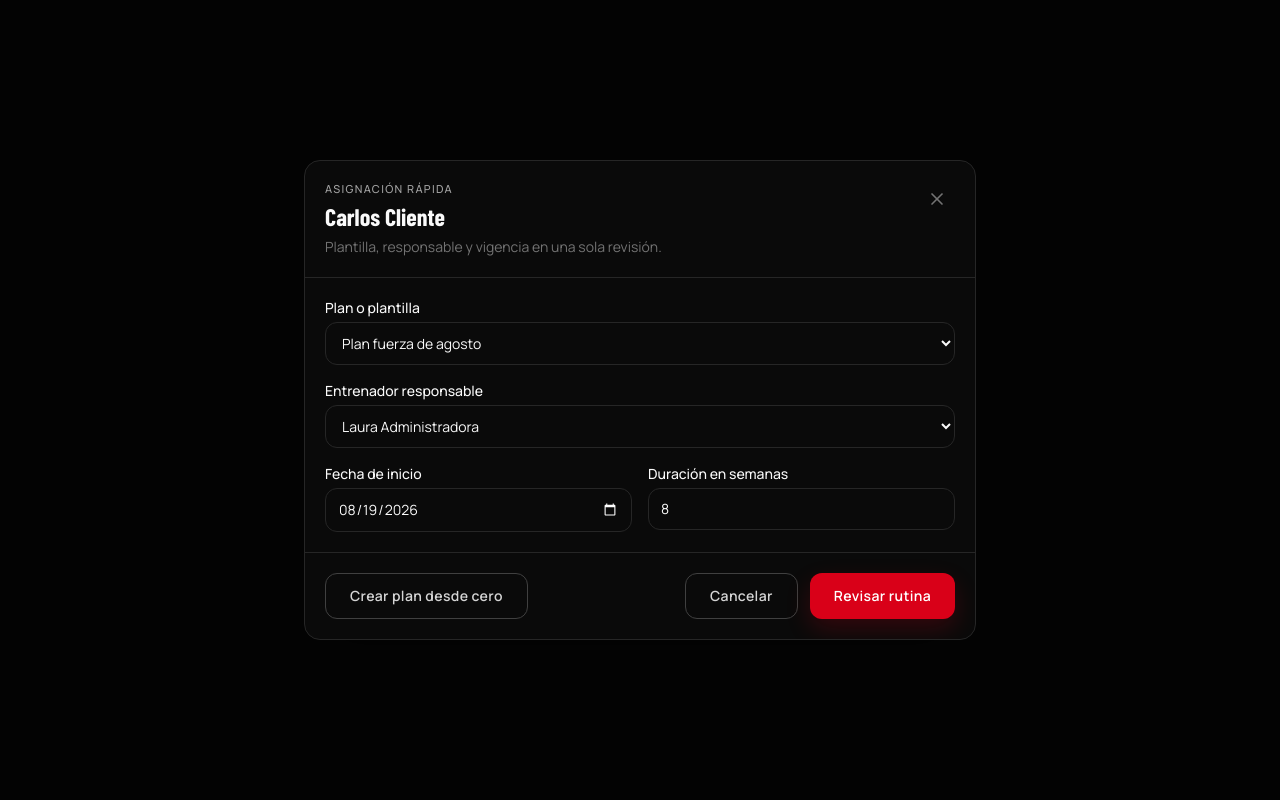
Scenario: QuickRoutineAssignmentModal › allows selecting and publishing a client draft without replacing its content
This screenshot has width=1280, height=800.
Later steps or results of the test are not shown.
Check: the dropdown with test id "quick-routine-template" shows "Plan fuerza de agosto", box x1=325 y1=322 x2=955 y2=365
Click the button "Revisar rutina". click: (882, 596)
box: x1=810 y1=573 x2=955 y2=619
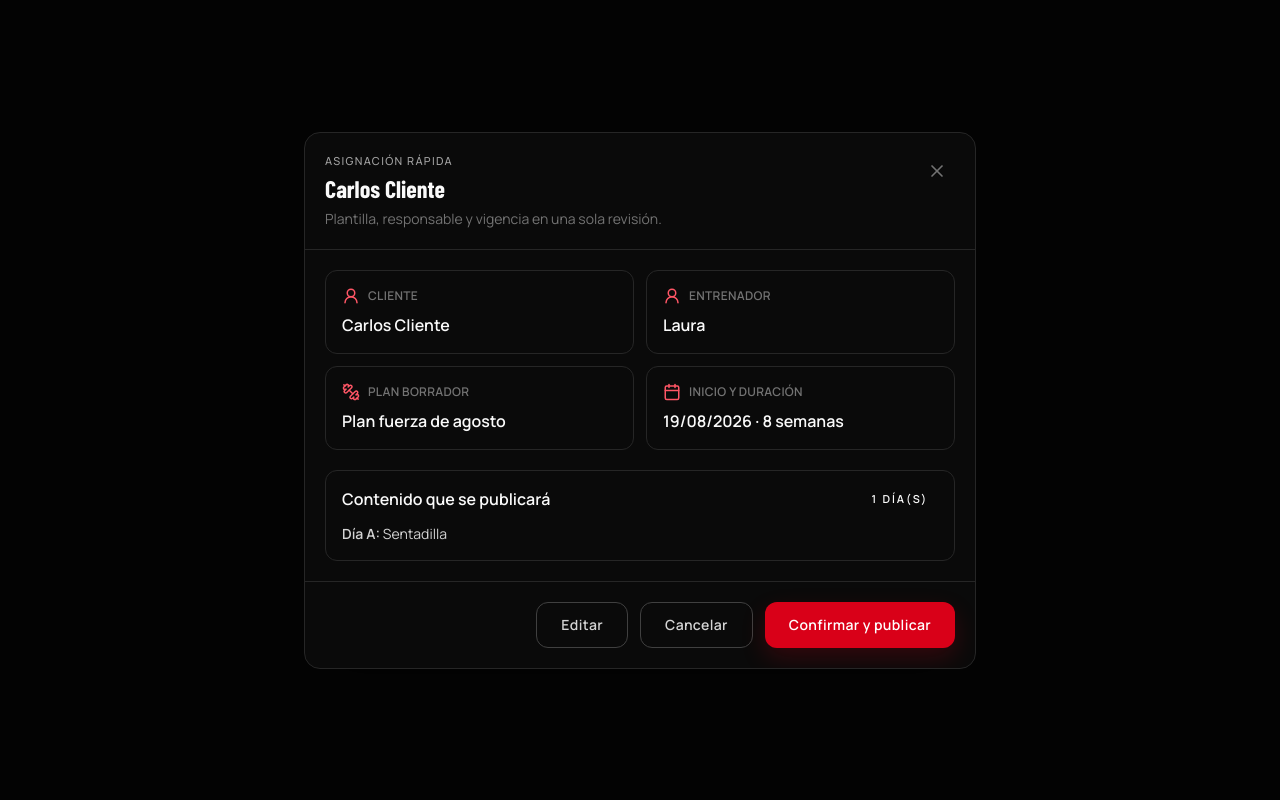
Check: the element with test id "quick-routine-preview" shows "Plan fuerza de agosto", box x1=342 y1=410 x2=506 y2=432
